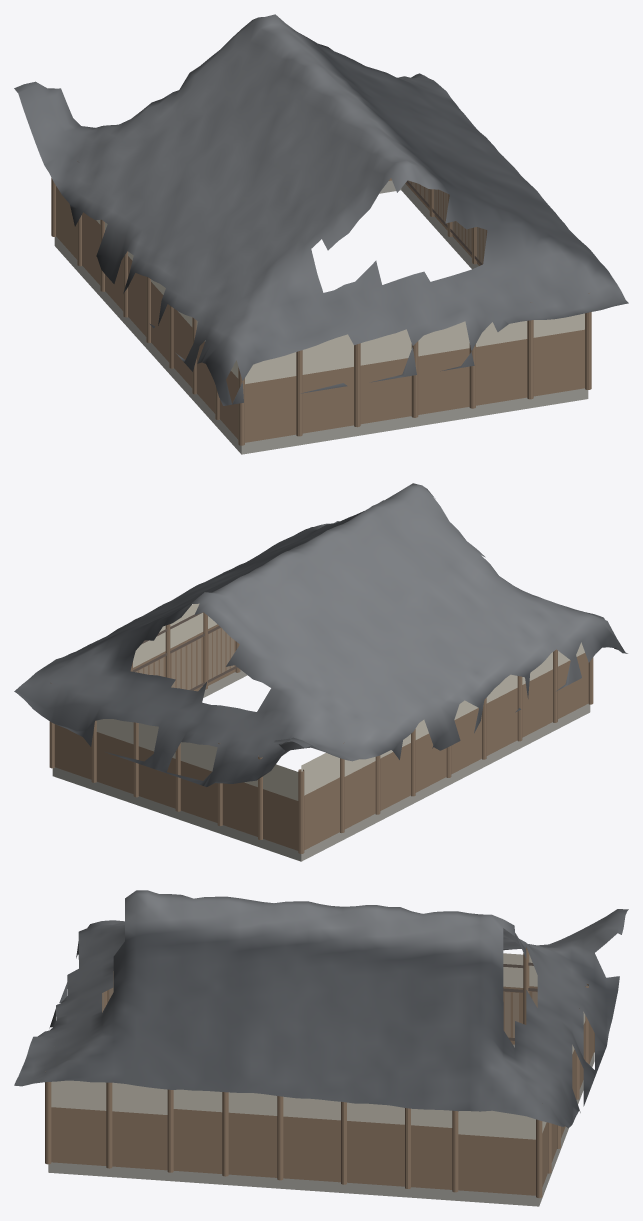
File: eikando-shakado.glb
3 renders of one model, top to bottom at view 1: azimuth 30°, elevation 25°; view 2: azimuth 150°, elevation 25°; view 3: azimuth 270°, elevation 25°, orthographic. The views are drawn at different scales.
Parts seen in each view (by area): view 1: Measured roof, Weathered timber, Lime plaster, Stone footings, Shutter slats; view 2: Measured roof, Weathered timber, Lime plaster, Stone footings, Shutter slats, Timber in shade; view 3: Measured roof, Weathered timber, Lime plaster, Stone footings, Shutter slats.
Boxes of the visible parts, left/top/right/bottom form: Measured roof: left=14, top=14, right=628, bottom=405; Weathered timber: left=51, top=161, right=591, bottom=445; Lime plaster: left=96, top=220, right=584, bottom=384; Stone footings: left=54, top=180, right=588, bottom=454; Shutter slats: left=408, top=180, right=487, bottom=263; Measured roof: left=14, top=483, right=627, bottom=786; Weathered timber: left=49, top=612, right=593, bottom=853; Lime plaster: left=96, top=603, right=584, bottom=800; Stone footings: left=52, top=669, right=590, bottom=861; Shutter slats: left=135, top=628, right=234, bottom=689; Timber in shade: left=133, top=612, right=237, bottom=690; Measured roof: left=14, top=890, right=628, bottom=1127; Weathered timber: left=45, top=947, right=594, bottom=1198; Lime plaster: left=51, top=953, right=585, bottom=1139; Stone footings: left=48, top=1044, right=594, bottom=1206; Shutter slats: left=102, top=971, right=537, bottom=1037.
Bounding box in the file's own units: 21.52 × 10.5 × 26.83.
Materials: 6 (1 with a texture image).
